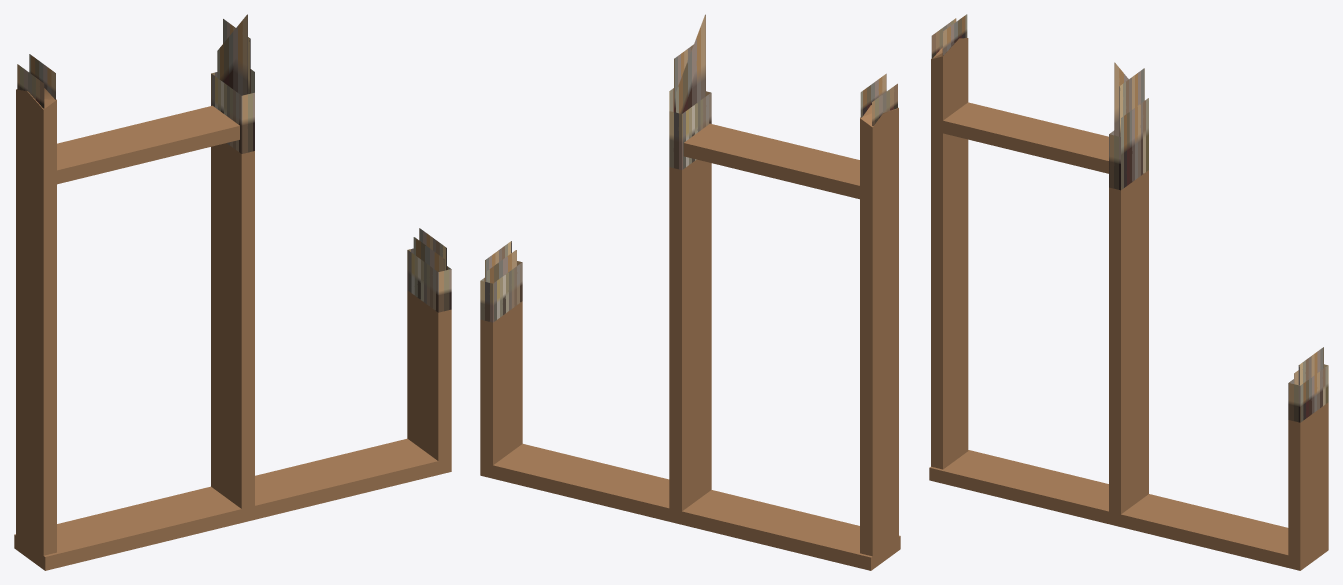
The model's file is DBK_WoodFrame_End_A.fbx.
3 renders of one model, left to right at view 1: azimuth 30°, elevation 25°; view 2: azimuth 150°, elevation 25°; view 3: azimuth 330°, elevation 25°, orthographic. The views are drawn at different scales.
Visible parts, largest first — view 1: DBK_WoodFrame_End_A; view 2: DBK_WoodFrame_End_A; view 3: DBK_WoodFrame_End_A.
Boxes of the visible parts, <box> form: DBK_WoodFrame_End_A: <box>14,14,451,570</box>; DBK_WoodFrame_End_A: <box>480,14,900,570</box>; DBK_WoodFrame_End_A: <box>929,14,1328,570</box>.
Size of the model in its own units: 153 by 182 by 20.
